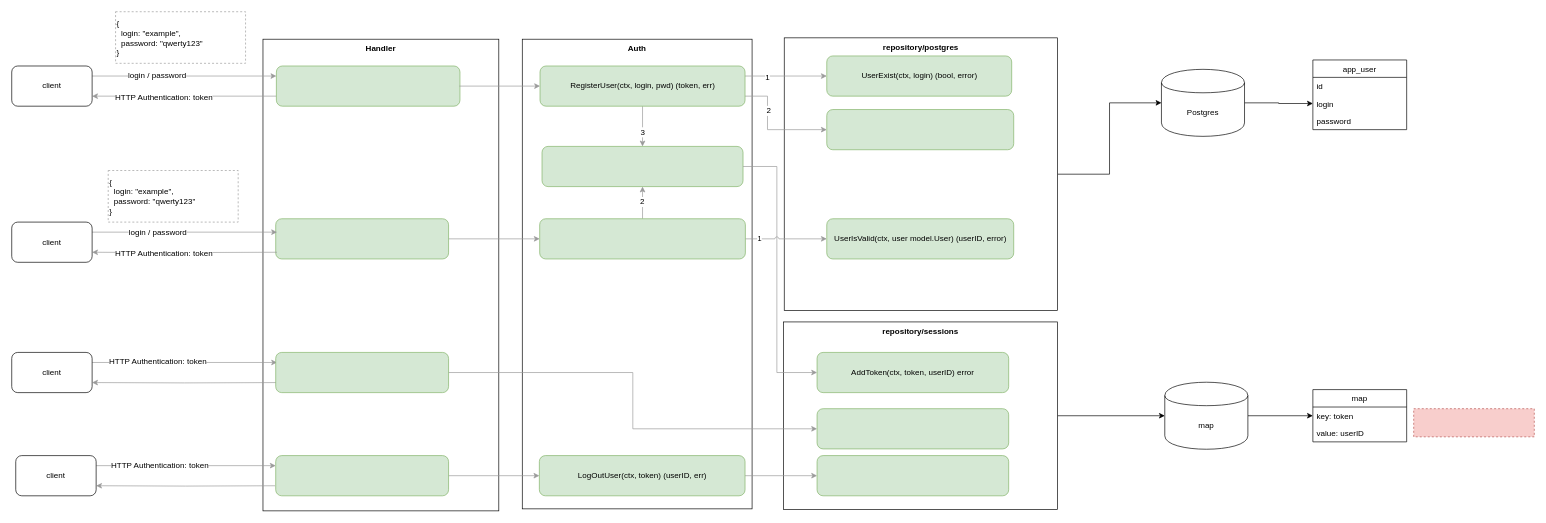
This 1546x523 diagram has some shape labels left out. The centre of each missing label's shape, as x and y in pixels:
"createToken(ctx, userID) (token, err)" goes at [642,166].
"CreateUser(ctx, user models.User) (userID, error)" goes at [920,129].
"DeleteToken(ctx, token) error" goes at [912,475].
"GetUserID(ctx, token) (userID, error)" goes at [912,428].
"MWIsUserLogIn(w http.ResponseWriter, r *http.Request)" goes at [362,372].
"SignIn(w http.ResponseWriter, r *http.Request)" goes at [362,238].
"SignOut(w http.ResponseWriter, r *http.Request)" goes at [362,475].
"SignUp(w http.ResponseWriter, r *http.Request)" goes at [368,85].
"UserLogIn(ctx, login, password) (token, err)" goes at [642,238].
"Подумать над временем инвалидации кеша" goes at [1473,422].
